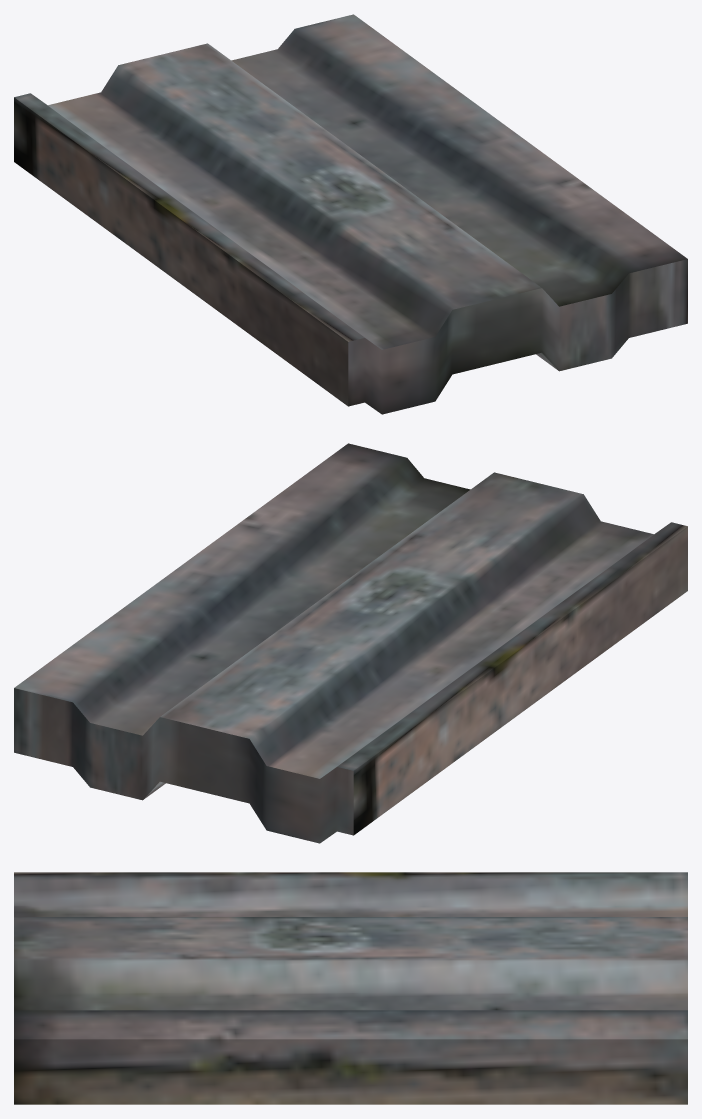
File: SM_OldCeramicRoofTiles_01_14_tile.fbx
The picture shows the model from 3 angles, top to bottom: view 1: azimuth 30°, elevation 25°; view 2: azimuth 150°, elevation 25°; view 3: azimuth 270°, elevation 25°; orthographic projection.
Visible parts, largest first — view 1: sm_OldCeramicRoofTiles_01_14_tile_LOD0; view 2: sm_OldCeramicRoofTiles_01_14_tile_LOD0; view 3: sm_OldCeramicRoofTiles_01_14_tile_LOD0.
Part boxes in pixels (box(x1,y1,x2,y2)): sm_OldCeramicRoofTiles_01_14_tile_LOD0: box(14, 14, 687, 414); sm_OldCeramicRoofTiles_01_14_tile_LOD0: box(14, 443, 687, 843); sm_OldCeramicRoofTiles_01_14_tile_LOD0: box(14, 872, 687, 1104).
Size of the model in its own units: 60.27 by 35.37 by 8.71.
